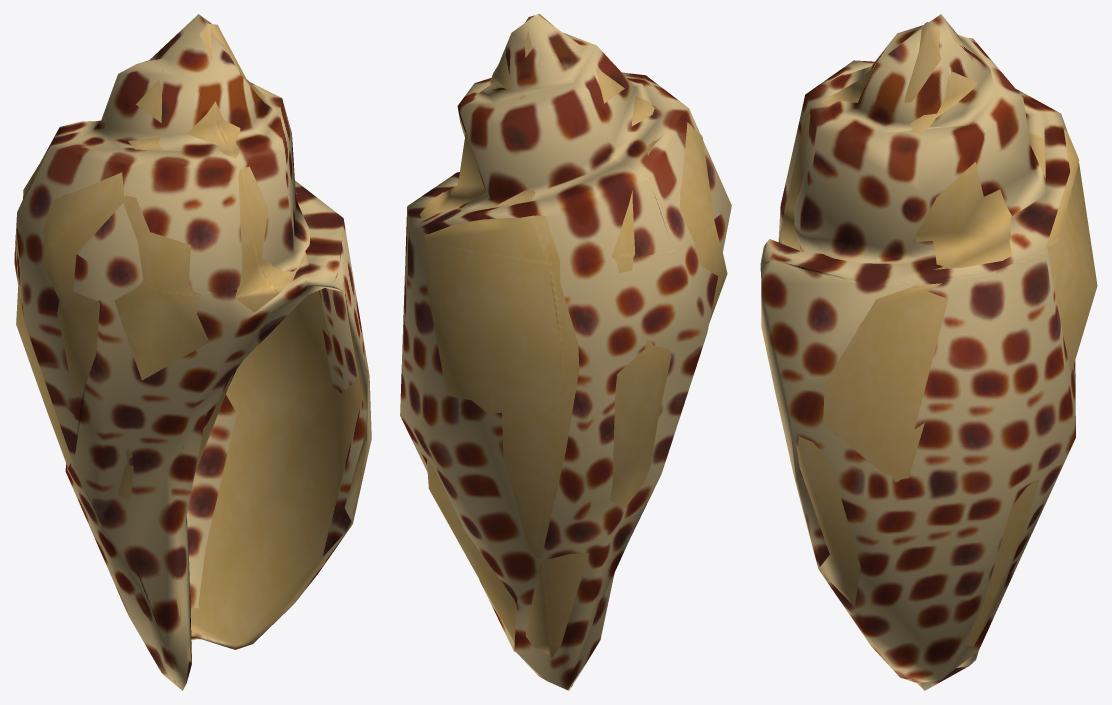
File: item_shell_junonia.glb
3 views of the same model, side by side, from view 1: azimuth 30°, elevation 25°; view 2: azimuth 150°, elevation 25°; view 3: azimuth 270°, elevation 25° (orthographic). The views are drawn at different scales.
Visible parts, largest first — view 1: OBJ_JunoniaShell; view 2: OBJ_JunoniaShell; view 3: OBJ_JunoniaShell.
Part boxes in pixels (left/top/right/bottom): OBJ_JunoniaShell: left=14, top=14, right=371, bottom=690; OBJ_JunoniaShell: left=400, top=14, right=731, bottom=690; OBJ_JunoniaShell: left=760, top=14, right=1097, bottom=690.
Bounding box in the file's own units: 0.0462 × 0.0997 × 0.0442.
1 material, 1 textured.
